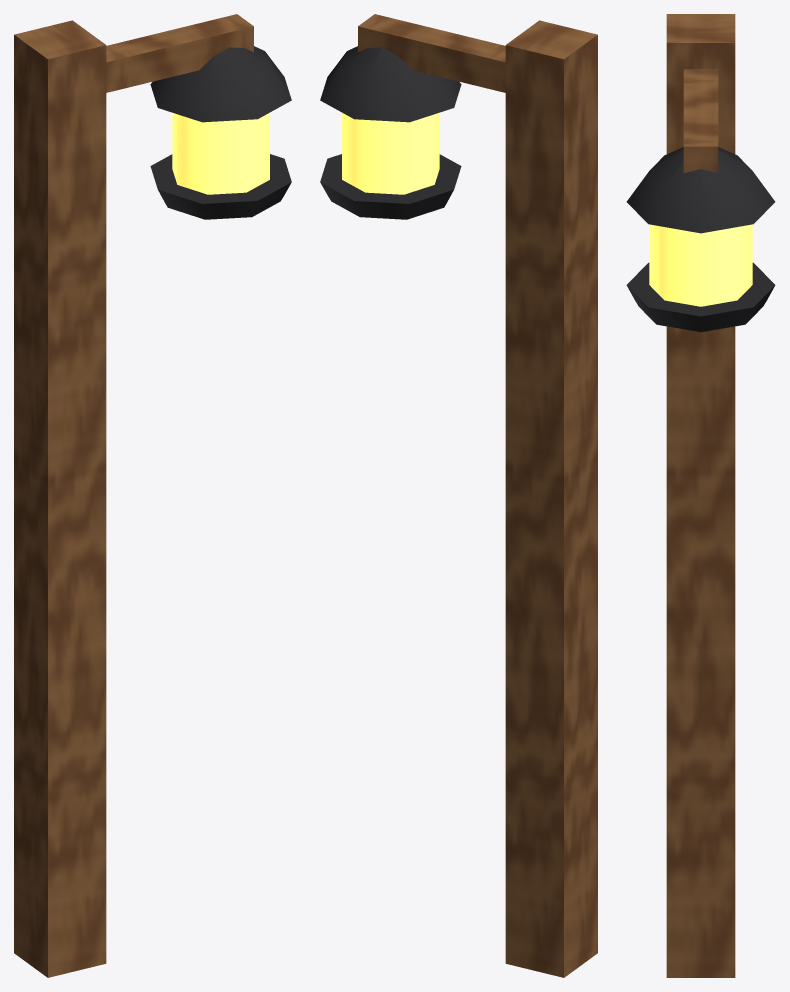
Rendered from lantern-lit.gltf.
3 views of the same model, side by side, from view 1: azimuth 30°, elevation 25°; view 2: azimuth 150°, elevation 25°; view 3: azimuth 270°, elevation 25° (orthographic).
Bounding box in the file's own units: 0.52 × 1.8 × 0.26.
Materials: 3 (1 with a texture image).
